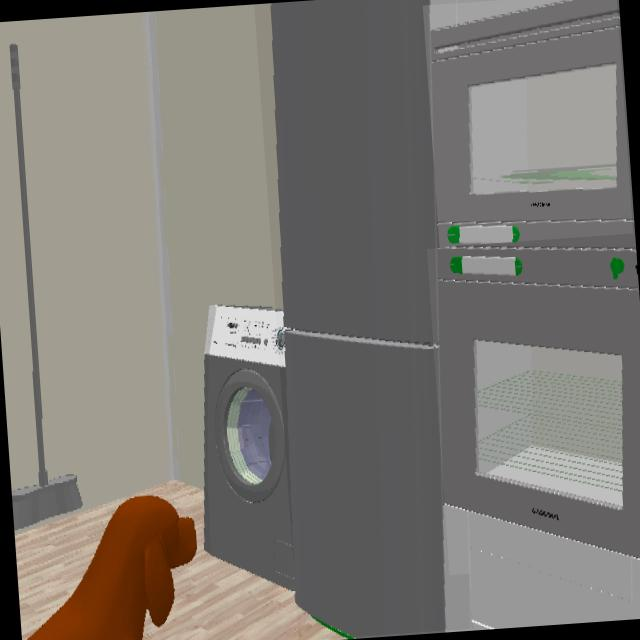fridge: (271, 0, 444, 636)
microwave: (432, 0, 635, 248)
oven: (438, 248, 640, 557)
